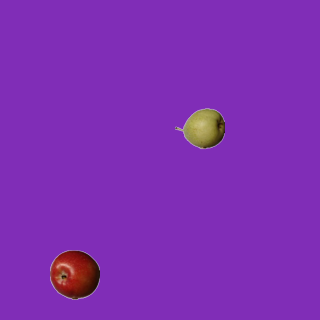Apple Braeburn: (49, 249, 99, 299)
Pear: (174, 103, 224, 153)
